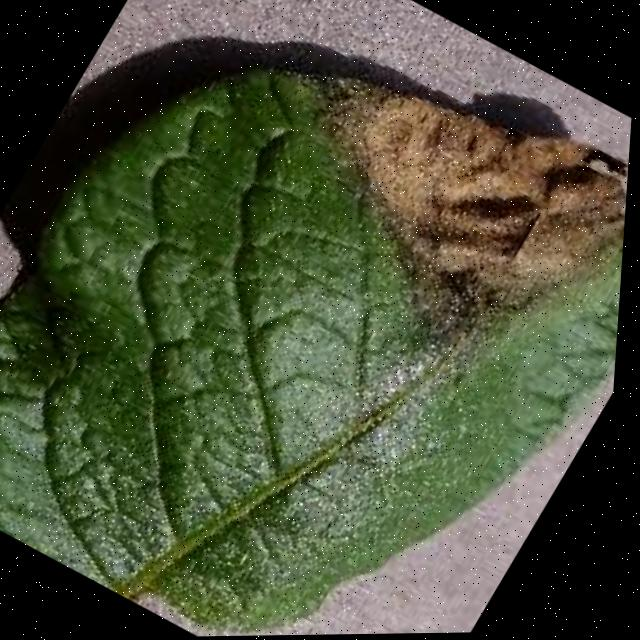Late_blight: (235, 0, 640, 371)
